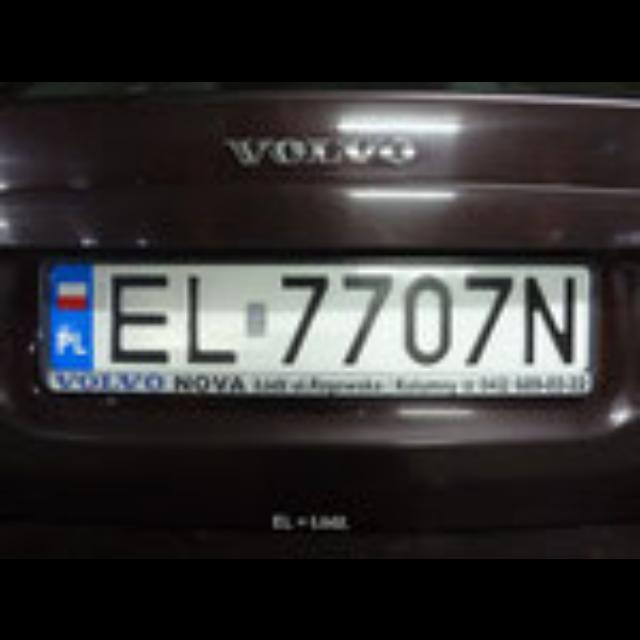pl_license_plate: (48, 260, 584, 362)
